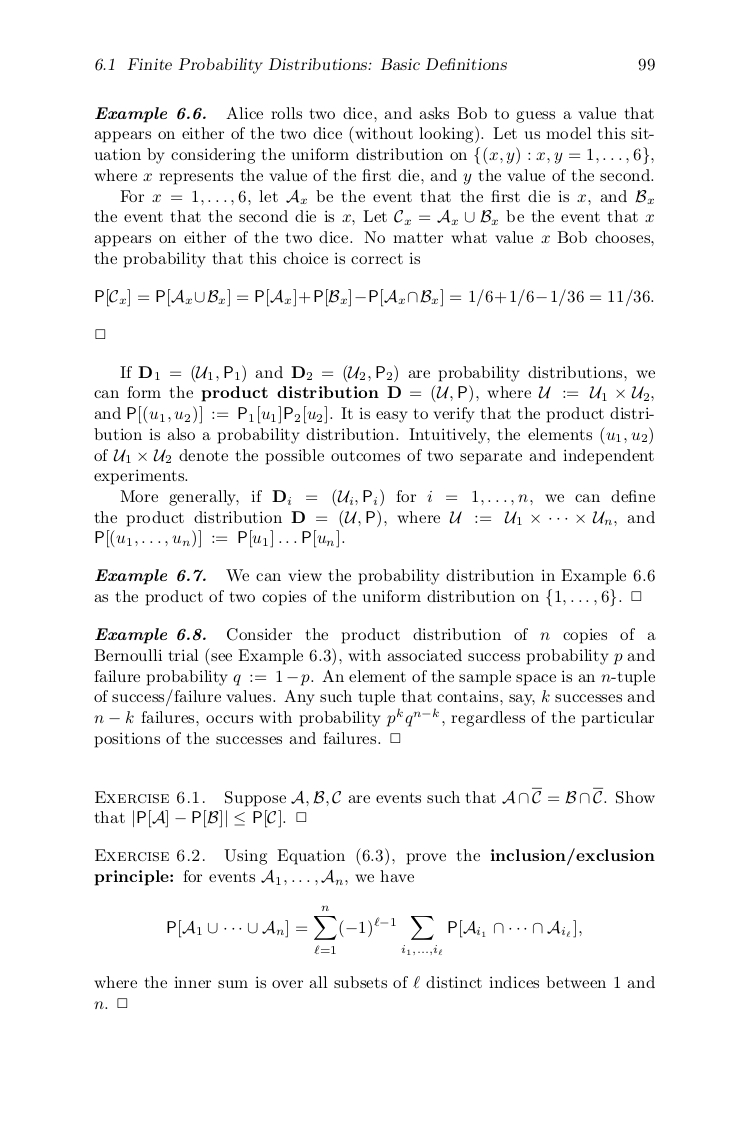formula: (167, 905, 581, 955), (95, 288, 653, 307)
